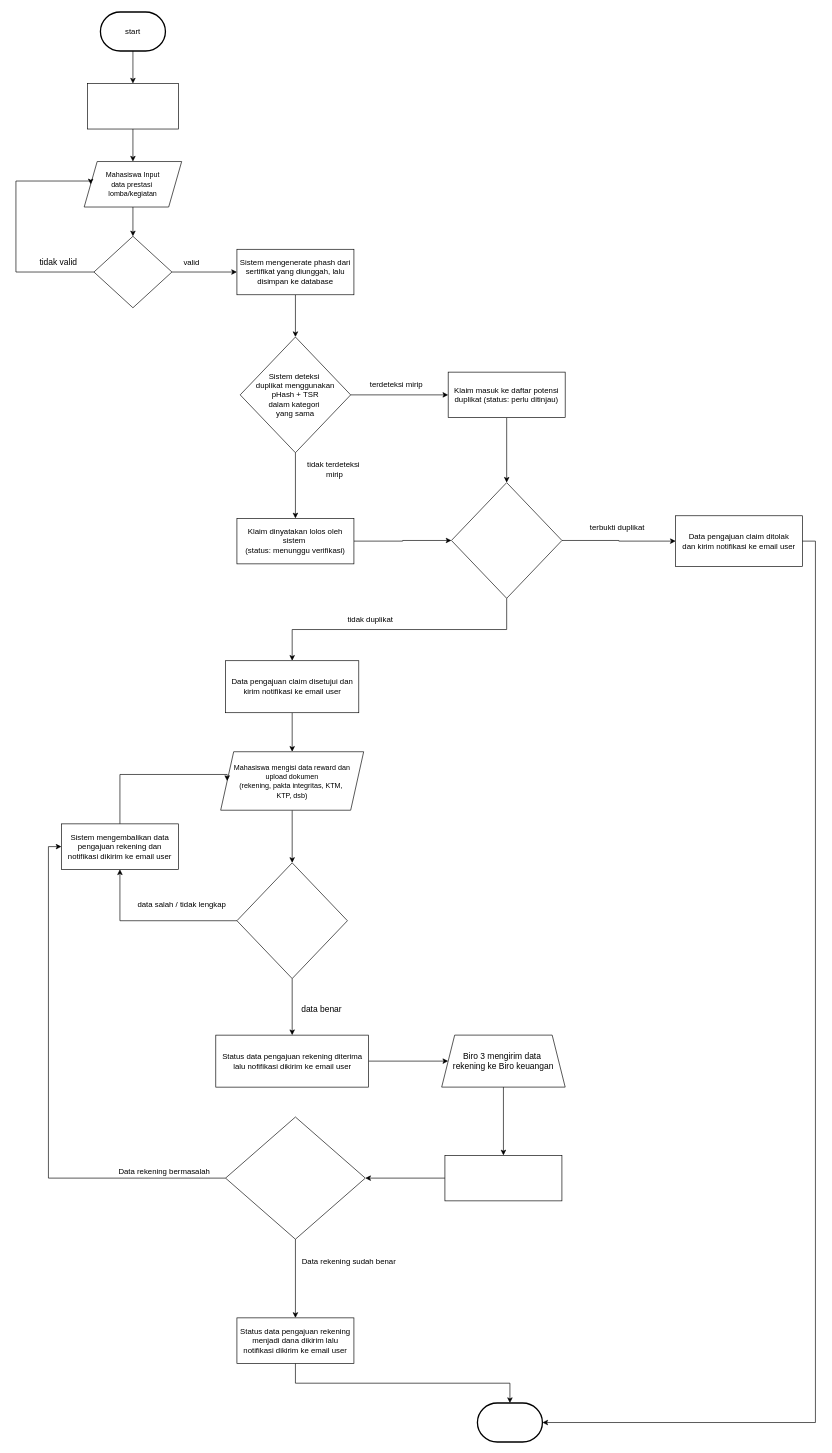
This 832x1453 diagram has some shape labels left out. Here are the shapes that lost their labels. From the top down, the centre of each, then its label:
the point at 132,106: Mahasiswa login menggunakan email @students.ukdw.ac.id
the point at 132,272: Sistem validasi data input
the point at 506,540: Operator memverifikasi dan memvalidasi data pengajuan klaim
the point at 291,920: Operator mengecek pengajuan data rekening mahasiswa
the point at 295,1177: Operator memproses feedback mengenai data proses transfer
the point at 503,1178: Biro 3 menerima feedback dari biro keuangan
the point at 509,1422: end
